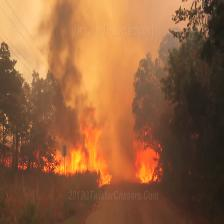fire: (0, 68, 172, 207)
smoke: (0, 0, 220, 95)
